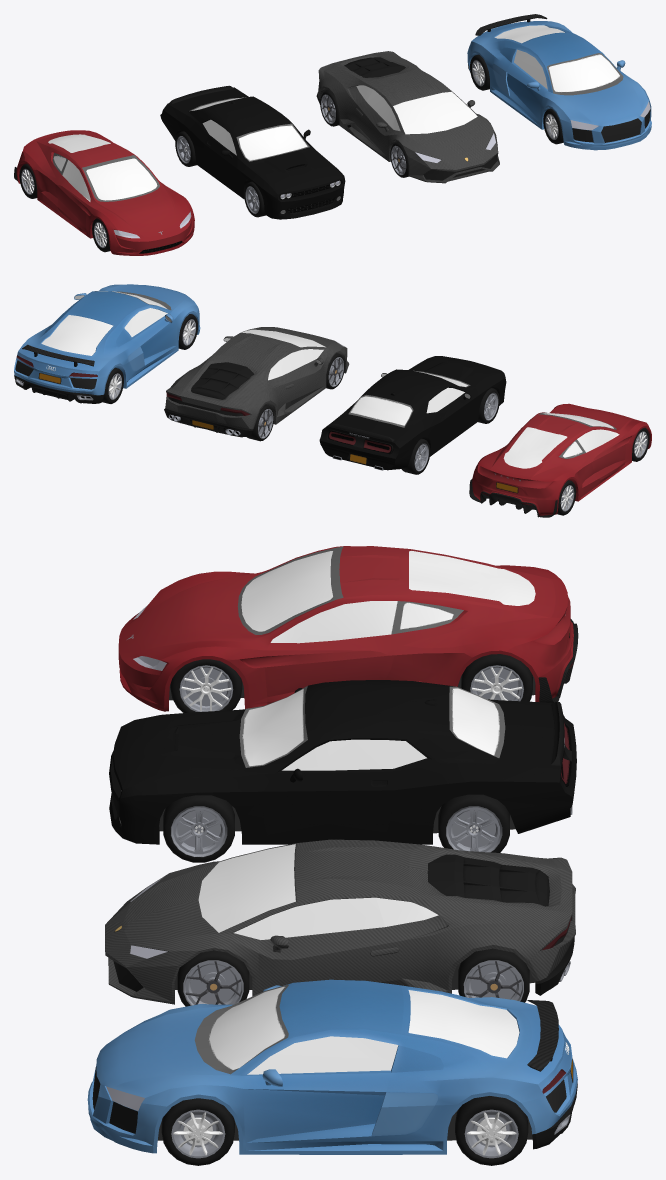
File: Cars.fbx
3 views of the same model, one above another, from view 1: azimuth 30°, elevation 25°; view 2: azimuth 150°, elevation 25°; view 3: azimuth 270°, elevation 25° (orthographic). The views are drawn at different scales.
Parts seen in each view (by area): view 1: Audi, Lambo, Dodge, Tesla, DodgeTire.001, AudiTire.001, Huracan.005, TeslaTire.001; view 2: Audi, Lambo, Dodge, Tesla, DodgeTire.001, Huracan.005, AudiTire.001, TeslaTire.001; view 3: Audi, Dodge, Lambo, Tesla, AudiTire.001, DodgeTire.001, Huracan.005, TeslaTire.001.
Part boxes in pixels (left/top/right/bottom): Audi: left=467, top=14, right=651, bottom=150; Lambo: left=316, top=51, right=499, bottom=183; Dodge: left=160, top=85, right=345, bottom=219; Tesla: left=14, top=130, right=194, bottom=255; DodgeTire.001: left=175, top=131, right=265, bottom=217; AudiTire.001: left=470, top=54, right=563, bottom=144; Huracan.005: left=320, top=90, right=408, bottom=177; TeslaTire.001: left=19, top=164, right=110, bottom=252; Audi: left=14, top=284, right=200, bottom=403; Lambo: left=164, top=327, right=349, bottom=437; Dodge: left=319, top=356, right=506, bottom=470; Tesla: left=469, top=403, right=651, bottom=517; DodgeTire.001: left=401, top=388, right=499, bottom=474; Huracan.005: left=247, top=353, right=344, bottom=441; AudiTire.001: left=102, top=314, right=197, bottom=403; TeslaTire.001: left=557, top=427, right=649, bottom=515; Audi: left=87, top=979, right=577, bottom=1154; Dodge: left=109, top=680, right=576, bottom=844; Lambo: left=105, top=839, right=575, bottom=1004; Tesla: left=118, top=546, right=578, bottom=711; AudiTire.001: left=161, top=1096, right=528, bottom=1165; DodgeTire.001: left=163, top=794, right=509, bottom=862; Huracan.005: left=177, top=948, right=529, bottom=1006; TeslaTire.001: left=170, top=654, right=532, bottom=712.
Bounding box in the file's own units: 1322 × 147 × 517.
